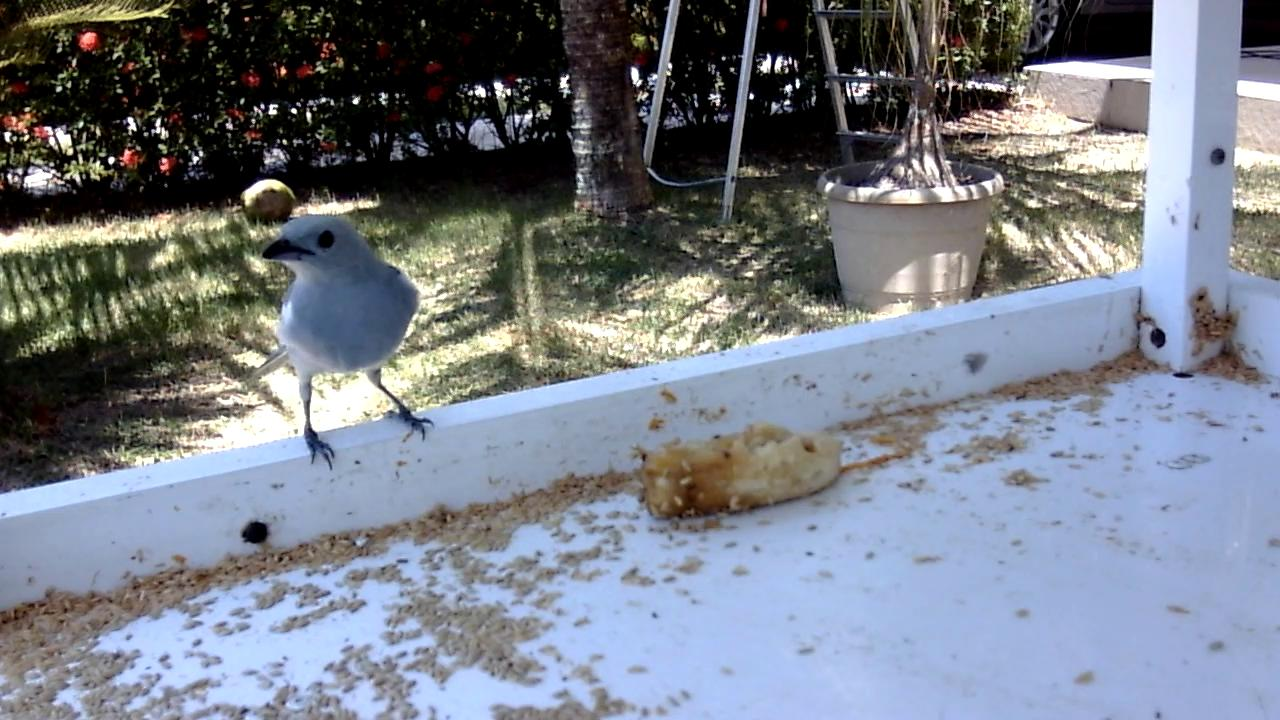sanhaco_da_amazonia: (239, 213, 438, 472)
